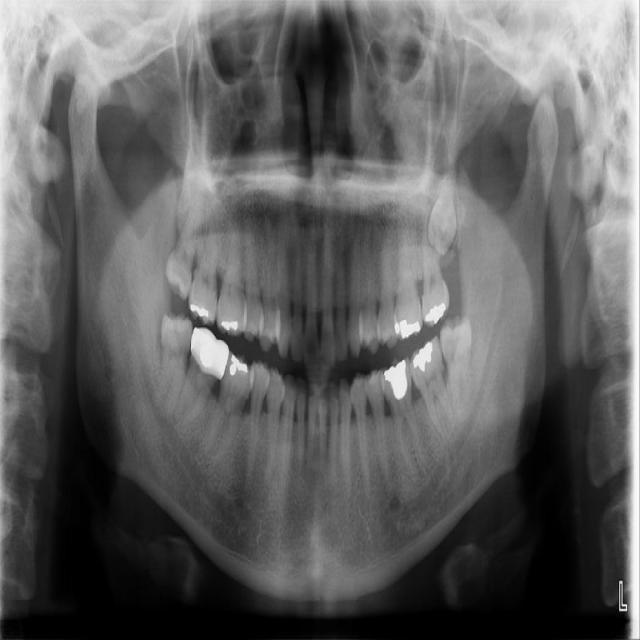3M ESPE Implant: (163, 200, 200, 301)
52: (189, 326, 231, 382), (216, 350, 258, 401), (407, 334, 444, 386), (214, 290, 249, 339), (391, 294, 425, 342), (187, 277, 219, 327), (380, 357, 412, 405), (422, 283, 449, 327), (183, 350, 188, 374)
73: (614, 585, 622, 610)
BioHorizons Implant: (421, 197, 450, 329)
BioLife Implant: (426, 166, 457, 256)
Biomet 3i Implant: (439, 315, 473, 419)
Blue Sky Bio Implant: (404, 334, 461, 457)
Caries: (187, 200, 218, 326)
Implant: (168, 325, 234, 442)
Keystone Dental Implant: (151, 309, 195, 420)
